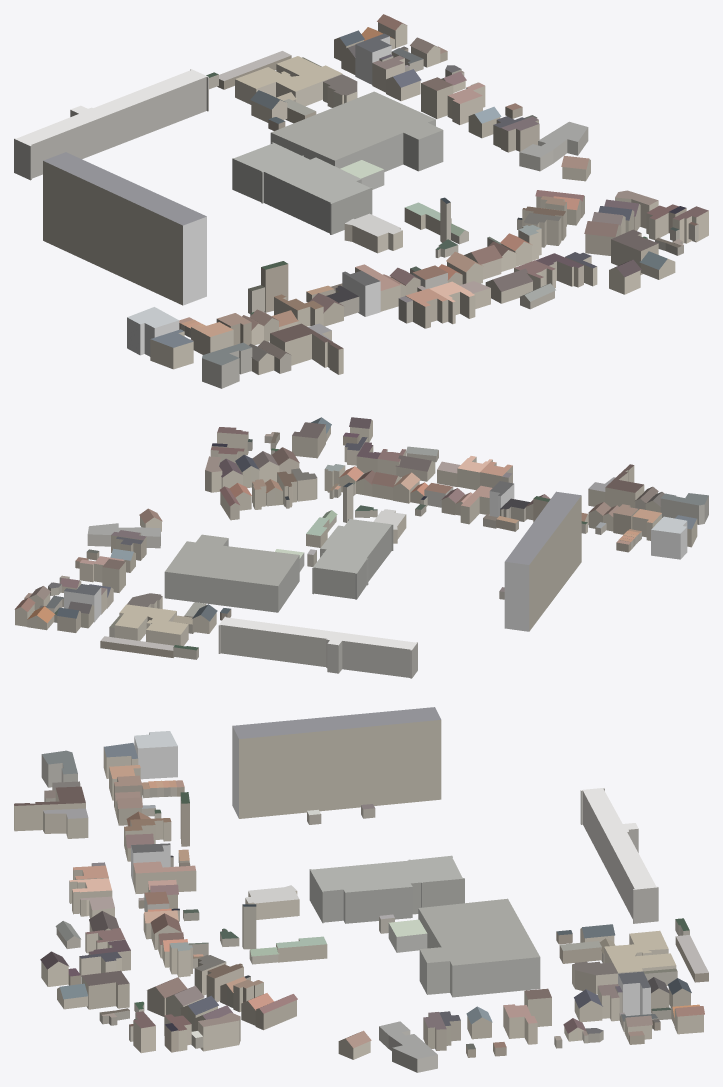
3 renders of one model, top to bottom at view 1: azimuth 30°, elevation 25°; view 2: azimuth 150°, elevation 25°; view 3: azimuth 270°, elevation 25°, orthographic. The views are drawn at different scales.
Visible parts, largest first — view 1: tuile; view 2: tuile; view 3: tuile.
Boxes of the visible parts, left/top/right/bottom form: tuile: left=14, top=14, right=708, bottom=388; tuile: left=14, top=417, right=708, bottom=678; tuile: left=14, top=707, right=708, bottom=1072.
Bounding box in the file's own units: 264 × 45.79 × 272.
